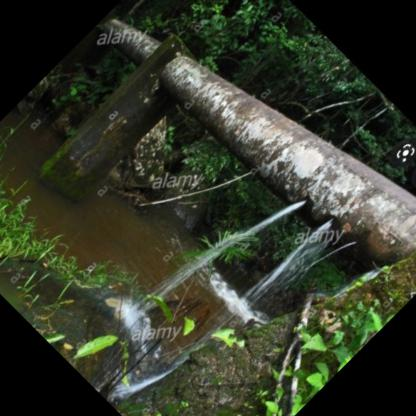burst: (291, 180, 352, 251)
